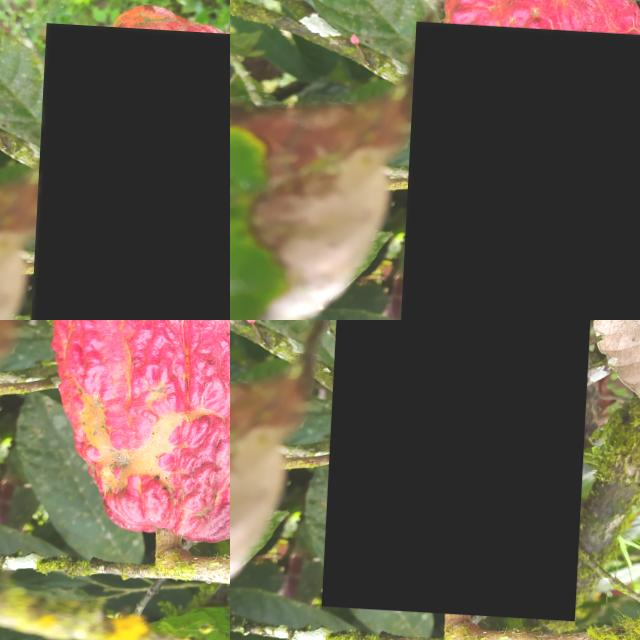Sana: (327, 320, 596, 615), (405, 19, 640, 320), (31, 20, 230, 320), (312, 0, 428, 177), (11, 419, 56, 480), (209, 320, 230, 341), (230, 270, 235, 316)
